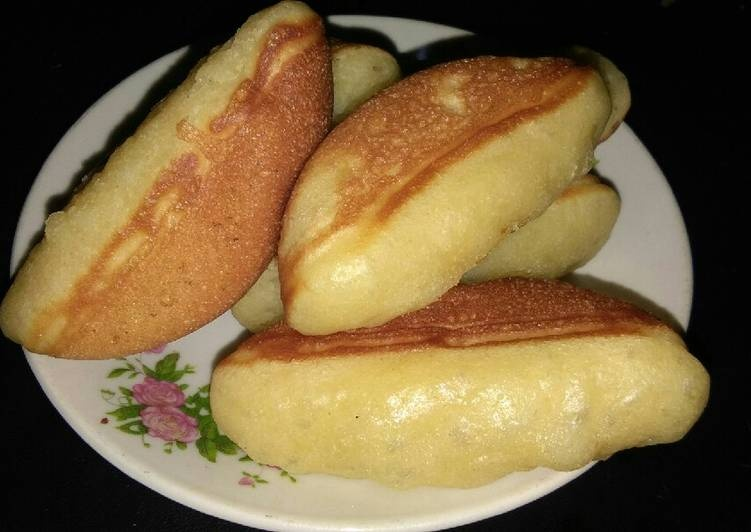pukis: (263, 27, 651, 356)
